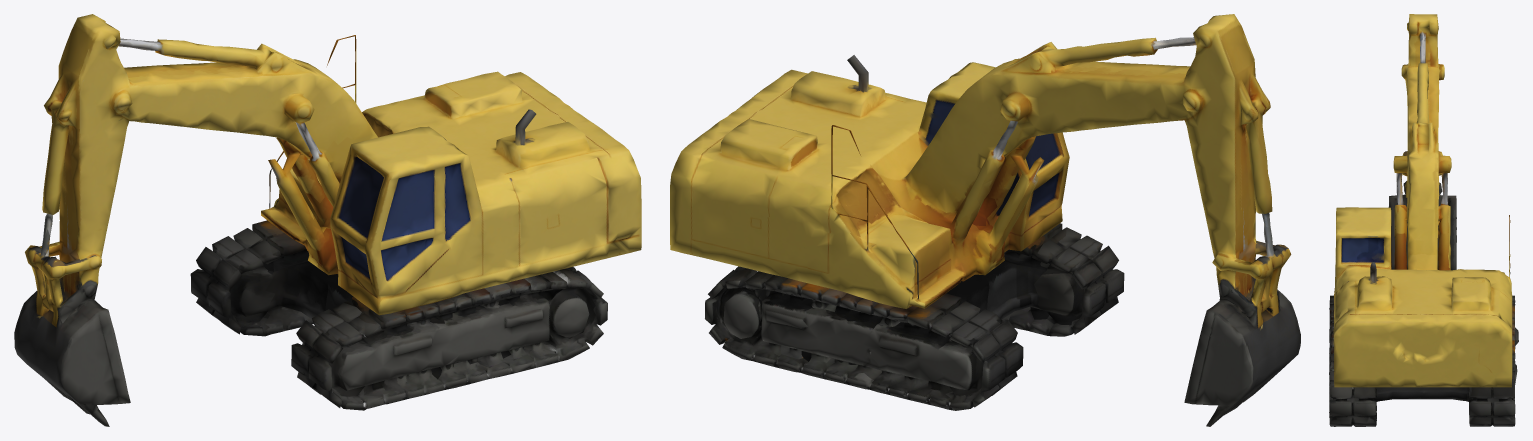
The model's file is excavator.glb.
The picture shows the model from 3 angles, left to right: view 1: azimuth 30°, elevation 25°; view 2: azimuth 150°, elevation 25°; view 3: azimuth 270°, elevation 25°; orthographic projection. The views are drawn at different scales.
Visible parts, largest first — view 1: aiprintgen_tmpfkflftjo.obj; view 2: aiprintgen_tmpfkflftjo.obj; view 3: aiprintgen_tmpfkflftjo.obj.
Boxes of the visible parts, left/top/right/bottom form: aiprintgen_tmpfkflftjo.obj: left=14, top=14, right=641, bottom=426; aiprintgen_tmpfkflftjo.obj: left=670, top=14, right=1300, bottom=426; aiprintgen_tmpfkflftjo.obj: left=1329, top=14, right=1518, bottom=426.
Bounding box in the file's own units: 1.45 × 0.9965 × 0.6343.
1 material, 1 textured.
